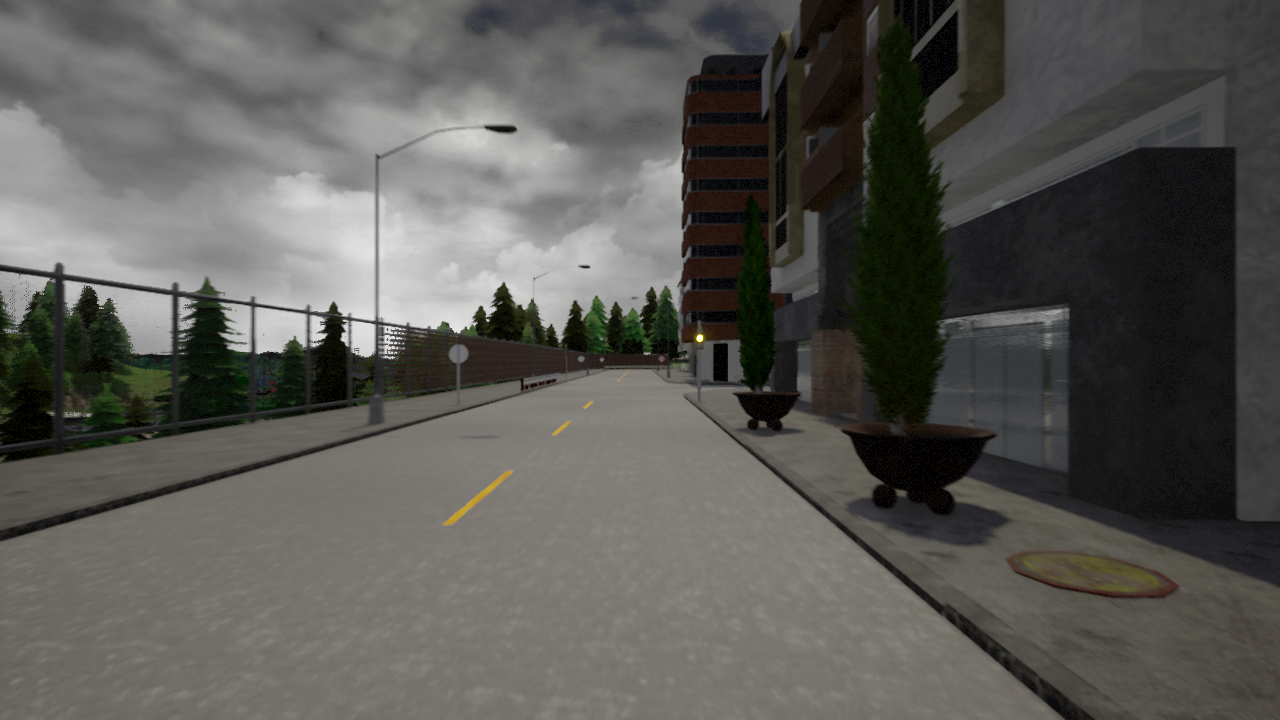yellow: (695, 326, 707, 353)
